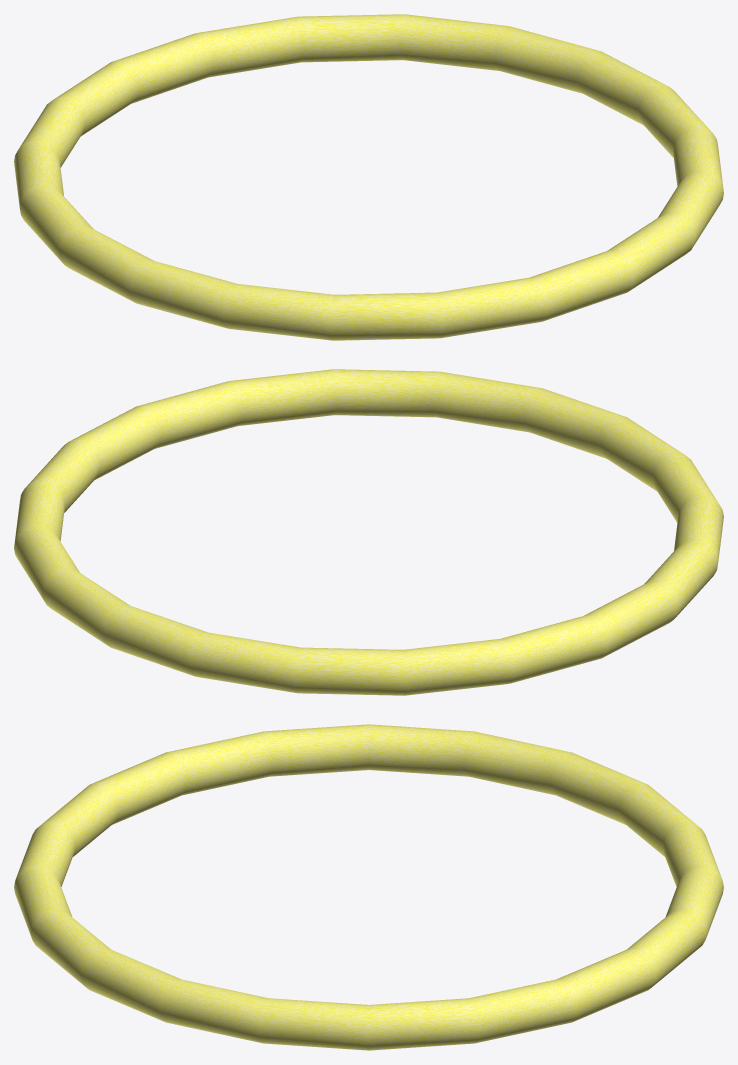
File: hat7.glb
The picture shows the model from 3 angles, top to bottom: view 1: azimuth 30°, elevation 25°; view 2: azimuth 150°, elevation 25°; view 3: azimuth 270°, elevation 25°; orthographic projection.
Visible parts, largest first — view 1: pTorus1; view 2: pTorus1; view 3: pTorus1.
Part boxes in pixels (left/top/right/bottom): pTorus1: left=14, top=14, right=723, bottom=340; pTorus1: left=14, top=369, right=723, bottom=695; pTorus1: left=14, top=724, right=723, bottom=1050.
Bounding box in the file's own units: 8.84 × 0.5733 × 8.84.
Materials: 1 (1 with a texture image).
